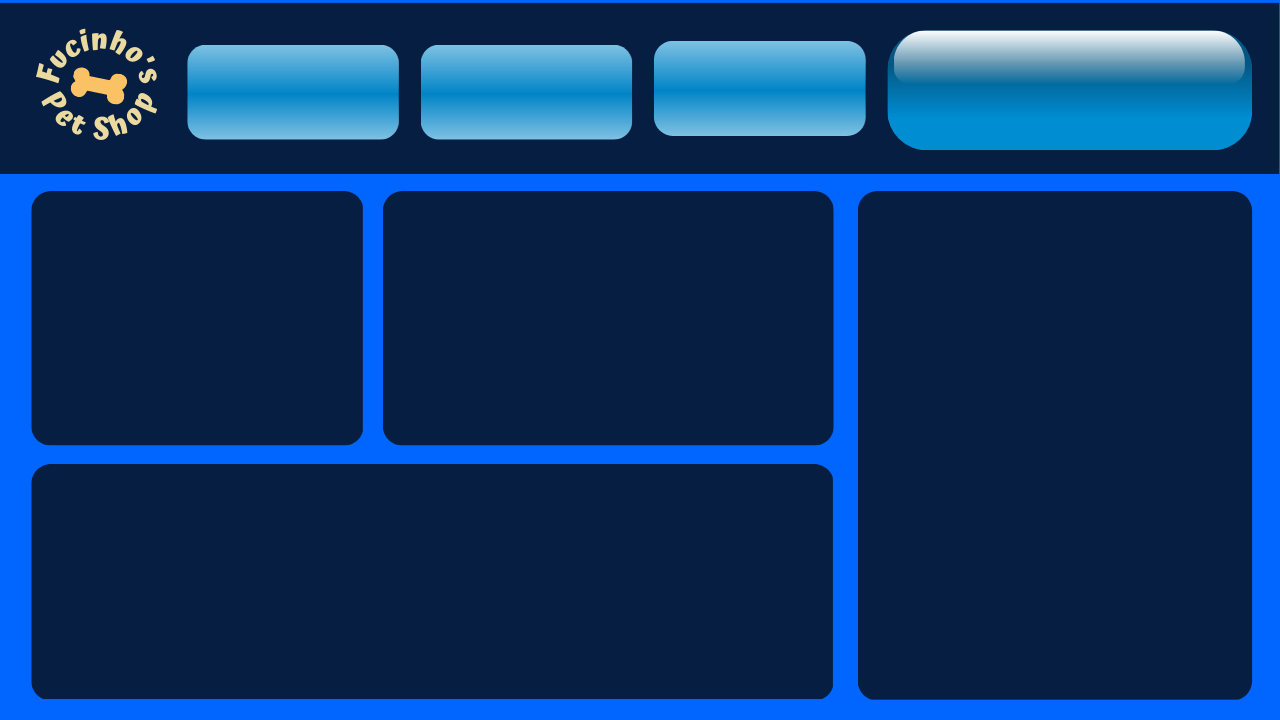

This screenshot's page, from the dashboard's own definition file:
{"tool":"powerbi","page":{"name":"Relatório","canvas":[1280,720],"ordinal":0},"visuals":[{"type":"card","fields":{"Values":["Vendas.Faturamento Total"]},"box":[170.3,41.2,241.7,92],"z":0},{"type":"card","fields":{"Values":["Avg(Clientes.Pets)"]},"box":[640,31.6,237.6,104.4],"z":1000},{"type":"card","fields":{"Values":["Sum(Vendas.Quantidade)"]},"box":[399.7,27.5,256.8,111.2],"z":2000},{"type":"pieChart","title":"Faturamento total por gênero","fields":{"Category":["Clientes.Gênero"],"Y":["Vendas.Faturamento Total"]},"box":[38.5,206,318.6,244.5],"z":3000},{"type":"clusteredBarChart","title":"Faturamento total por bairro","fields":{"Category":["Clientes.Bairro"],"Y":["Vendas.Faturamento Total"]},"box":[390,206,439.5,243.1],"z":4000},{"type":"areaChart","title":"Faturamento total por mês e ano","fields":{"Category":["Vendas.Data de compra.Variation.Hierarquia de datas.Ano","Vendas.Data de compra.Variation.Hierarquia de datas.Trimestre","Vendas.Data de compra.Variation.Hierarquia de datas.Mês","Vendas.Data de compra.Variation.Hierarquia de datas.Dia"],"Y":["Vendas.Faturamento Total"]},"box":[38.5,468.3,791.1,217],"z":5000},{"type":"ImageGrid_FC5183B9_926C_45E0_B5F7_0CE9EAF1DA9B","fields":{"ImageURLHQ":["Produtos.Url img"]},"box":[857,280.2,399.7,409.3],"z":6000},{"type":"textFilter25A4896A83E0487089E2B90C9AE57C8A","title":"Nome do produto","fields":{"field":["Produtos.Nome produto"]},"box":[876.2,206,361.2,89.3],"z":7000},{"type":"slicer","fields":{"Values":["Produtos.Marca"]},"box":[1111.1,41.2,136,68.7],"z":8000},{"type":"slicer","fields":{"Values":["Vendas.Data de compra"]},"box":[903.7,41.2,218.4,164.8],"z":9000}]}

Visuals, with their boxes in screenshot pixels (x1, y1, x2, y2), scaled from the page's 1280x720 canvas onto the 1280x720 screenshot:
card - Vendas.Faturamento Total: x1=170, y1=41, x2=412, y2=133
card - Avg(Clientes.Pets): x1=640, y1=32, x2=878, y2=136
card - Sum(Vendas.Quantidade): x1=400, y1=28, x2=656, y2=139
"Faturamento total por gênero" pieChart: x1=38, y1=206, x2=357, y2=450
"Faturamento total por bairro" clusteredBarChart: x1=390, y1=206, x2=830, y2=449
"Faturamento total por mês e ano" areaChart: x1=38, y1=468, x2=830, y2=685
ImageGrid_FC5183B9_926C_45E0_B5F7_0CE9EAF1DA9B - Produtos.Url img: x1=857, y1=280, x2=1257, y2=690
"Nome do produto" textFilter25A4896A83E0487089E2B90C9AE57C8A: x1=876, y1=206, x2=1237, y2=295
slicer - Produtos.Marca: x1=1111, y1=41, x2=1247, y2=110
slicer - Vendas.Data de compra: x1=904, y1=41, x2=1122, y2=206
